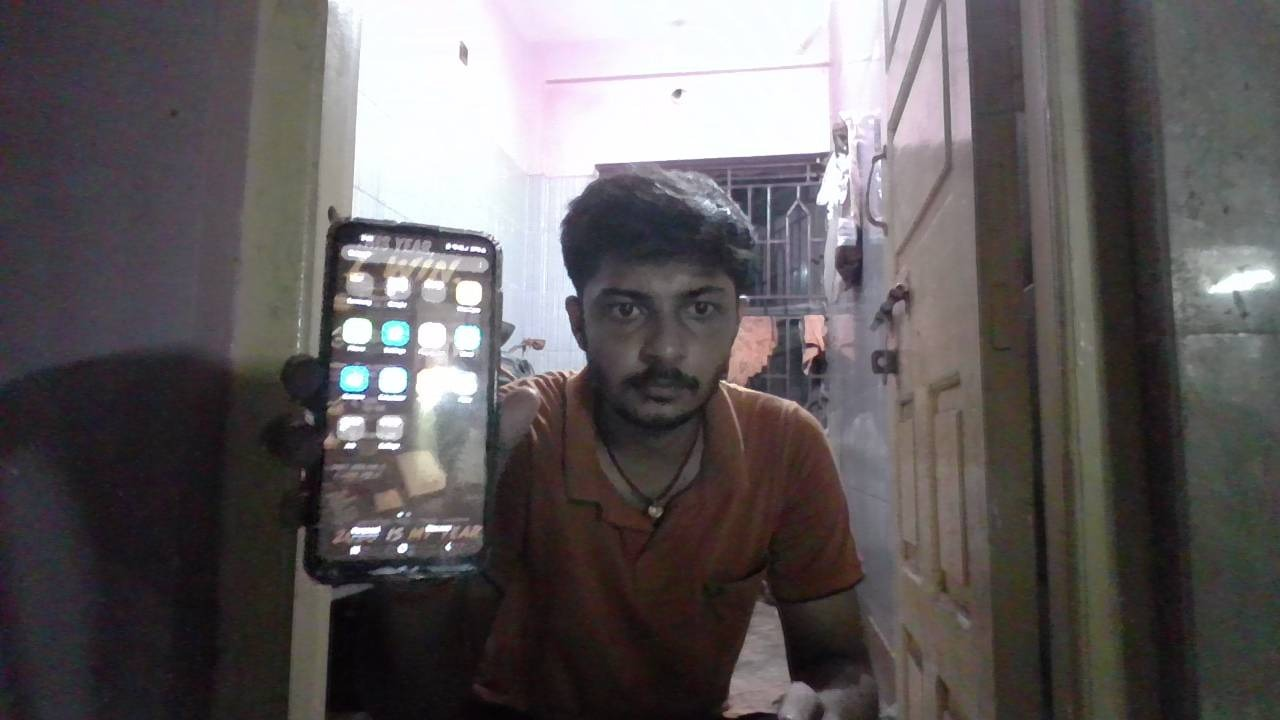red_box: (672, 400, 862, 586), (582, 470, 650, 530)
